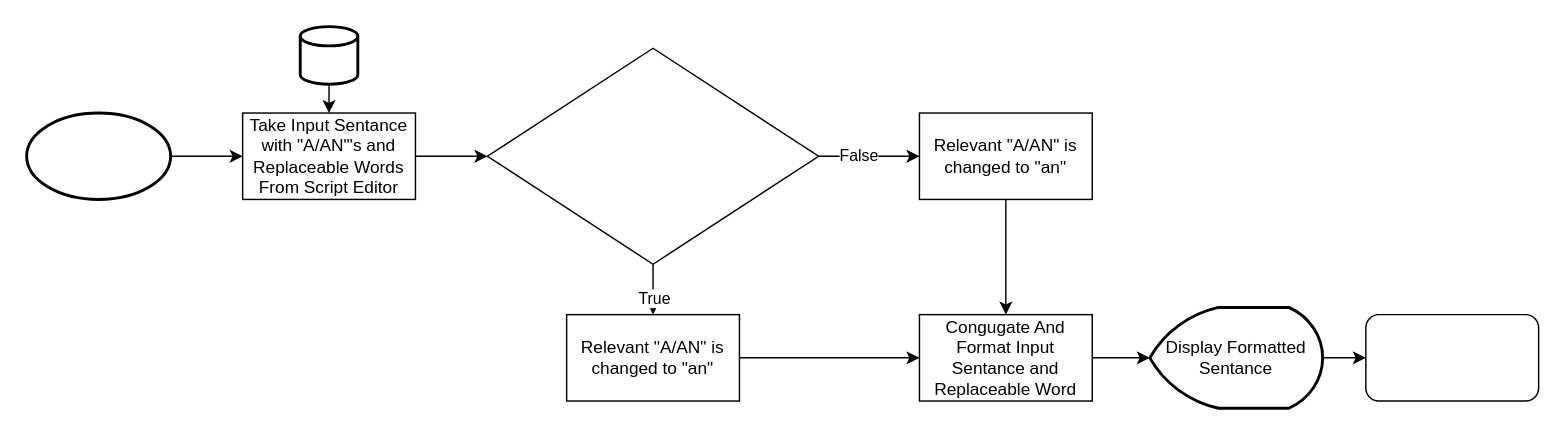
The diagram is 1564 pixels wide and 433 high, and some of its shapes have lost their labels. The centre of each missing label's shape, as x and y in pixels:
"End Proper Grammar Check Process" goes at (x=1451, y=357).
"If Replaceable Word starts with a Vowel" goes at (x=652, y=155).
"Start Proper Grammar Check Process" goes at (x=97, y=155).
